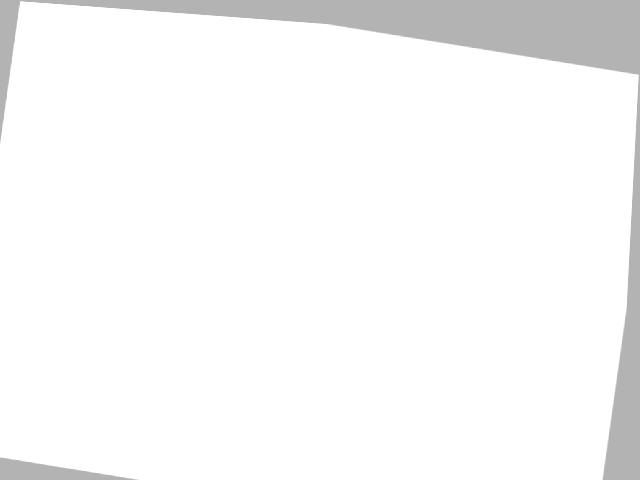iha: (267, 223, 295, 247)
